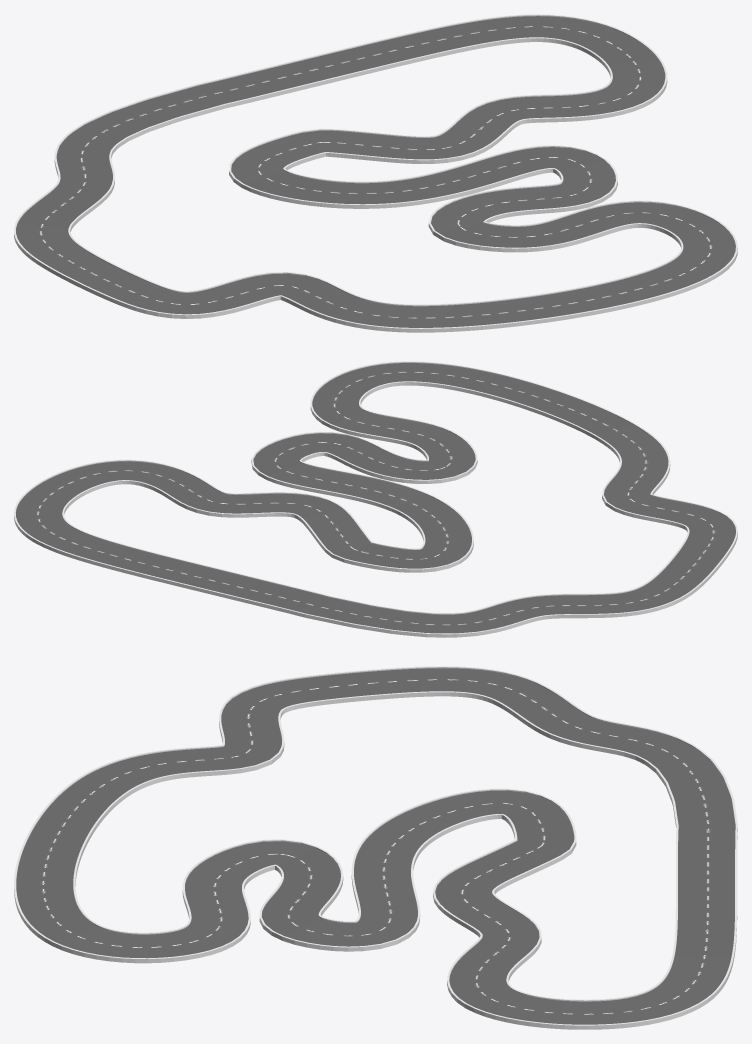
Rendered from Track.obj.
The picture shows the model from 3 angles, top to bottom: view 1: azimuth 30°, elevation 25°; view 2: azimuth 150°, elevation 25°; view 3: azimuth 270°, elevation 25°; orthographic projection. The views are drawn at different scales.
Visible parts, largest first — view 1: RoadPiece; view 2: RoadPiece; view 3: RoadPiece.
Boxes of the visible parts, x1=… form: RoadPiece: x1=14, y1=14, x2=737, y2=332; RoadPiece: x1=14, y1=361, x2=737, y2=637; RoadPiece: x1=14, y1=666, x2=737, y2=1029.
Size of the model in its own units: 555 by 3.96 by 473.
